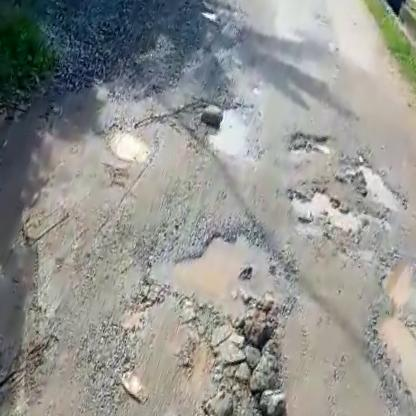pothole: (132, 203, 315, 347), (359, 309, 416, 416), (282, 178, 371, 244), (347, 157, 411, 218), (202, 95, 263, 159), (375, 252, 416, 313), (105, 123, 154, 168)
